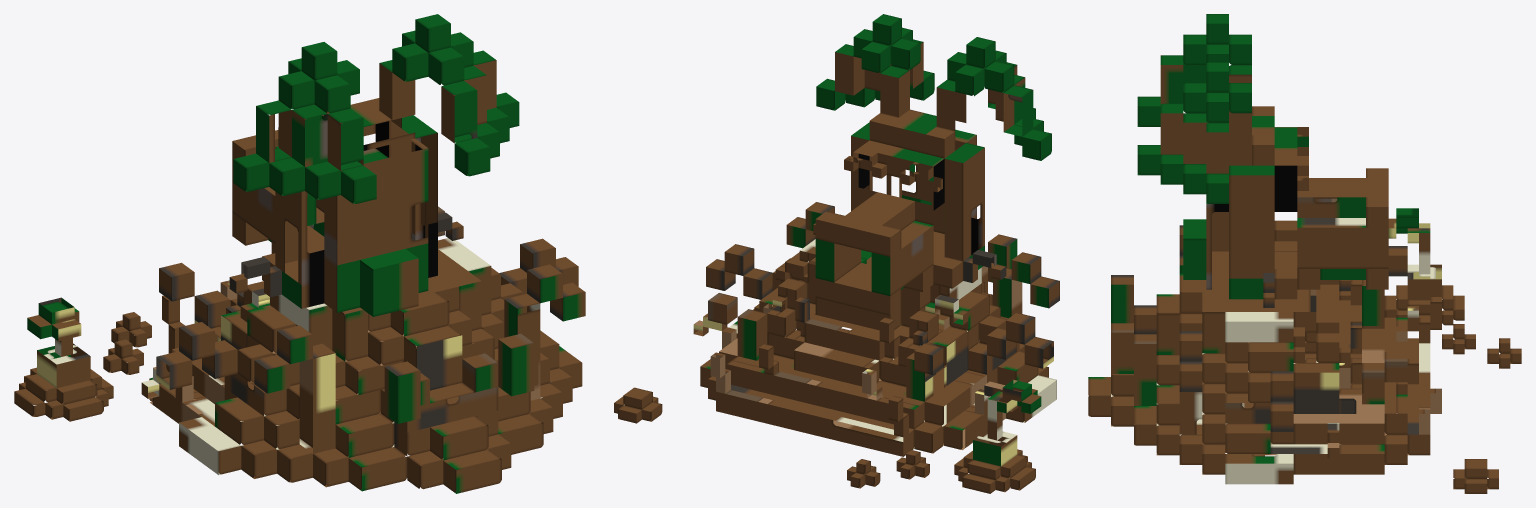
Rendered from Animacion LVL 1.dae.
3 renders of one model, left to right at view 1: azimuth 30°, elevation 25°; view 2: azimuth 150°, elevation 25°; view 3: azimuth 270°, elevation 25°, orthographic. The views are drawn at different scales.
Visible parts, largest first — view 1: Archivo con toda la info-local, Archivo con toda la info (2)-local; view 2: Archivo con toda la info-local, Archivo con toda la info (2)-local; view 3: Archivo con toda la info-local, Archivo con toda la info (2)-local.
Boxes of the visible parts, box(x1,y1,x2,y2) form: Archivo con toda la info-local: box(14, 206, 585, 493); Archivo con toda la info (2)-local: box(229, 14, 519, 316); Archivo con toda la info-local: box(614, 202, 1059, 493); Archivo con toda la info (2)-local: box(813, 14, 1051, 315); Archivo con toda la info-local: box(1088, 208, 1521, 493); Archivo con toda la info (2)-local: box(1137, 14, 1388, 307).
Size of the model in its own units: 82 by 68.18 by 76.
